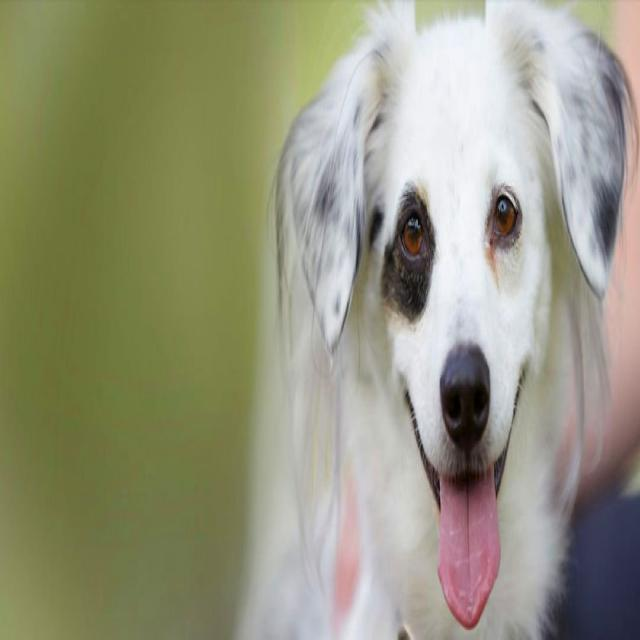dog: (236, 0, 631, 639)
